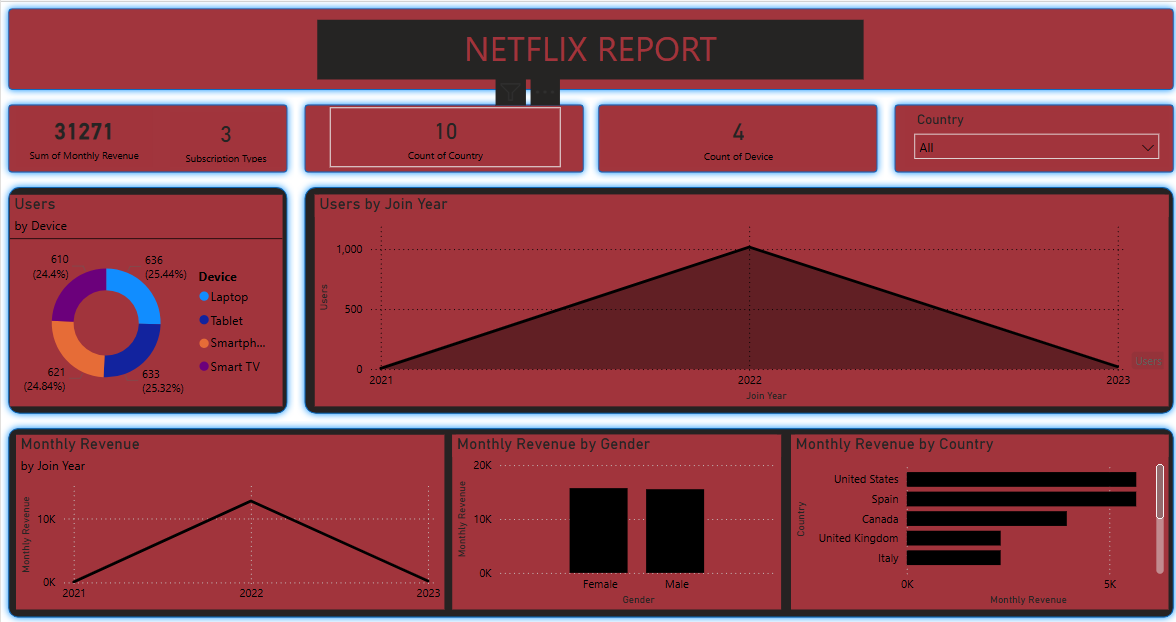

This screenshot's page, from the dashboard's own definition file:
{"tool":"powerbi","page":{"name":"Page 2","canvas":[1280,720],"ordinal":1},"visuals":[{"type":"shape","box":[0,43.4,1280.3,104.4],"z":0},{"type":"shape","box":[0,147.8,318.7,89.5],"z":1000},{"type":"shape","box":[321.4,147.8,318.7,89.5],"z":2000},{"type":"shape","box":[961.6,147.8,318.7,89.5],"z":3000},{"type":"shape","box":[640.1,147.8,318.7,89.5],"z":4000},{"type":"shape","box":[0,237.3,318.7,261.8],"z":6000},{"type":"shape","box":[321.4,237.3,958.9,261.8],"z":7000},{"type":"shape","box":[0,499.1,1280.3,221.1],"z":8000},{"type":"textbox","box":[343.1,63.7,592.7,65.1],"z":9000},{"type":"card","fields":{"Values":["Sum(Netflix Userbase (2).Monthly Revenue)"]},"box":[16.3,158.7,147.8,65.1],"z":10000},{"type":"card","fields":{"Values":["Count(Netflix Userbase (2).Country)"]},"box":[356.7,158.7,250.9,65.1],"z":11000},{"type":"card","fields":{"Values":["Count(Netflix Userbase (2).Device)"]},"box":[651,158.7,298.4,65.1],"z":12000},{"type":"slicer","fields":{"Values":["Netflix Userbase (2).Country"]},"box":[980.5,158.7,286.2,65.1],"z":13000},{"type":"donutChart","fields":{"Category":["Netflix Userbase (2).Device"],"Y":["CountNonNull(Netflix Userbase (2).User ID)"]},"box":[9.5,253.6,295.7,229.2],"z":14000},{"type":"areaChart","fields":{"Category":["Netflix Userbase (2).Join Year"],"Y":["CountNonNull(Netflix Userbase (2).User ID)"]},"box":[340.4,253.6,926.3,229.2],"z":15000},{"type":"card","fields":{"Values":["Count(Netflix Userbase (2).Subscription Type)"]},"box":[183.1,164.1,122.1,59.7],"z":16000},{"type":"lineChart","fields":{"Category":["Netflix Userbase (2).Join Year"],"Y":["Sum(Netflix Userbase (2).Monthly Revenue)"]},"box":[16.3,514,465.2,189.9],"z":17000},{"type":"columnChart","fields":{"Y":["Sum(Netflix Userbase (2).Monthly Revenue)"],"Category":["Netflix Userbase (2).Gender"]},"box":[489.6,514,356.7,189.9],"z":18000},{"type":"barChart","fields":{"Category":["Netflix Userbase (2).Country"],"Y":["Sum(Netflix Userbase (2).Monthly Revenue)"]},"box":[857.1,514,409.6,189.9],"z":18002}]}

Visuals, with their boxes in screenshot pixels (x1, y1, x2, y2):
shape: l=3, t=6, r=1175, b=102
shape: l=3, t=102, r=295, b=184
shape: l=297, t=102, r=589, b=184
shape: l=883, t=102, r=1175, b=184
shape: l=589, t=102, r=881, b=184
shape: l=3, t=184, r=295, b=423
shape: l=297, t=184, r=1175, b=423
shape: l=3, t=423, r=1175, b=621
textbox: l=317, t=25, r=860, b=84
card - Sum(Netflix Userbase (2).Monthly Revenue): l=18, t=112, r=153, b=171
card - Count(Netflix Userbase (2).Country): l=330, t=112, r=559, b=171
card - Count(Netflix Userbase (2).Device): l=599, t=112, r=872, b=171
slicer - Netflix Userbase (2).Country: l=900, t=112, r=1162, b=171
donutChart - Netflix Userbase (2).Device x CountNonNull(Netflix Userbase (2).User ID): l=12, t=198, r=282, b=408
areaChart - Netflix Userbase (2).Join Year x CountNonNull(Netflix Userbase (2).User ID): l=315, t=198, r=1162, b=408
card - Count(Netflix Userbase (2).Subscription Type): l=171, t=117, r=282, b=171
lineChart - Netflix Userbase (2).Join Year x Sum(Netflix Userbase (2).Monthly Revenue): l=18, t=437, r=444, b=611
columnChart - Sum(Netflix Userbase (2).Monthly Revenue) x Netflix Userbase (2).Gender: l=451, t=437, r=778, b=611
barChart - Netflix Userbase (2).Country x Sum(Netflix Userbase (2).Monthly Revenue): l=788, t=437, r=1162, b=611
